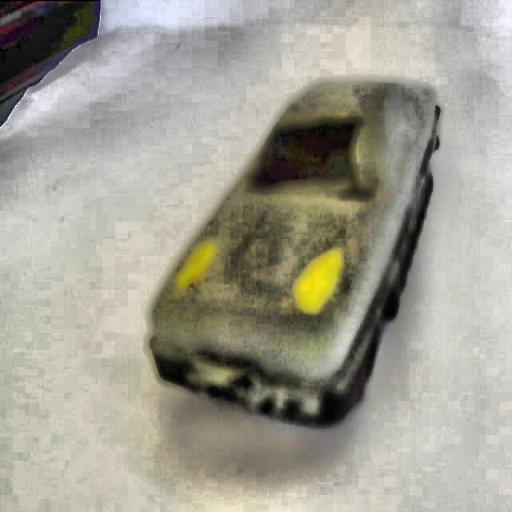normal_car: (140, 74, 443, 432)
